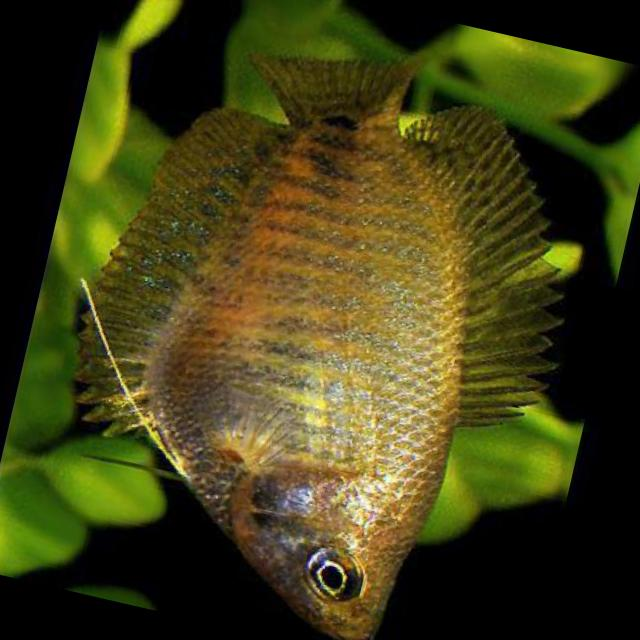Gourami: (13, 12, 605, 640)
